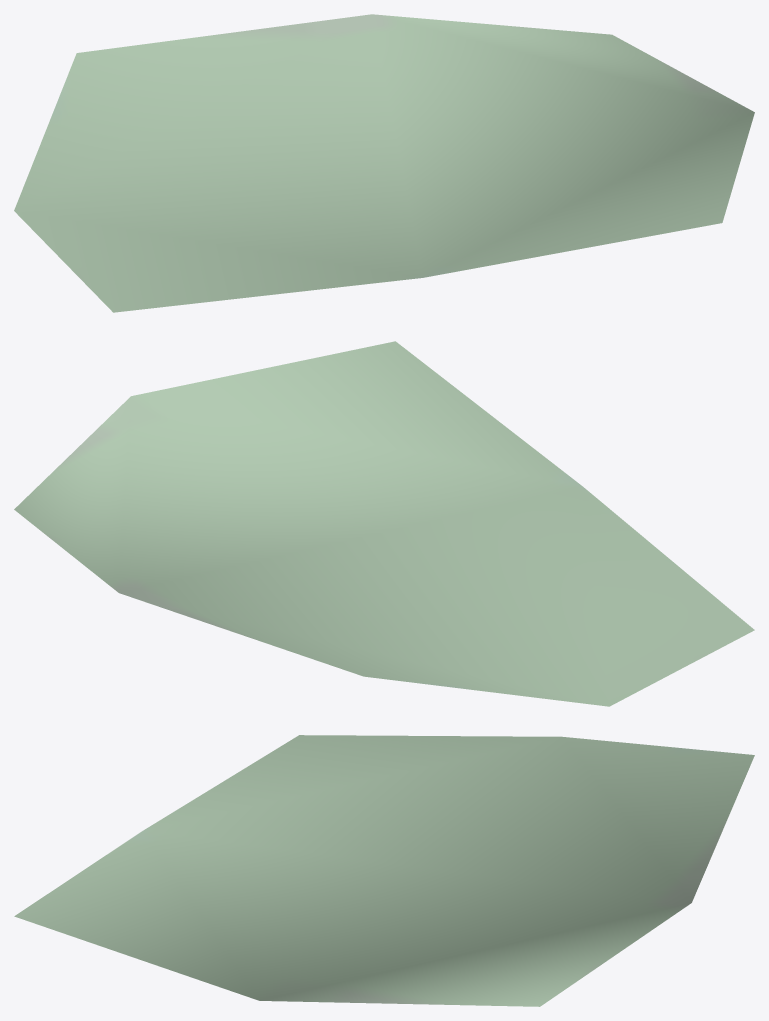
Rendered from TROLLHOLE02_HOLECAP177.fbx.
The picture shows the model from 3 angles, top to bottom: view 1: azimuth 30°, elevation 25°; view 2: azimuth 150°, elevation 25°; view 3: azimuth 270°, elevation 25°; orthographic projection. The views are drawn at different scales.
Parts seen in each view (by area): view 1: TROLLHOLE02_HOLECAP177; view 2: TROLLHOLE02_HOLECAP177; view 3: TROLLHOLE02_HOLECAP177.
Part boxes in pixels (box(x1,y1,x2,y2)): TROLLHOLE02_HOLECAP177: box(14, 14, 754, 312); TROLLHOLE02_HOLECAP177: box(14, 341, 754, 706); TROLLHOLE02_HOLECAP177: box(14, 735, 754, 1006).
Bounding box in the file's own units: 35435 × 3700 × 33306.
Materials: 1 (1 with a texture image).
